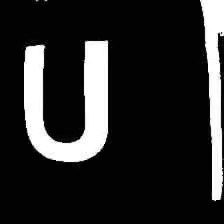LTR_U: (15, 37, 114, 166)
